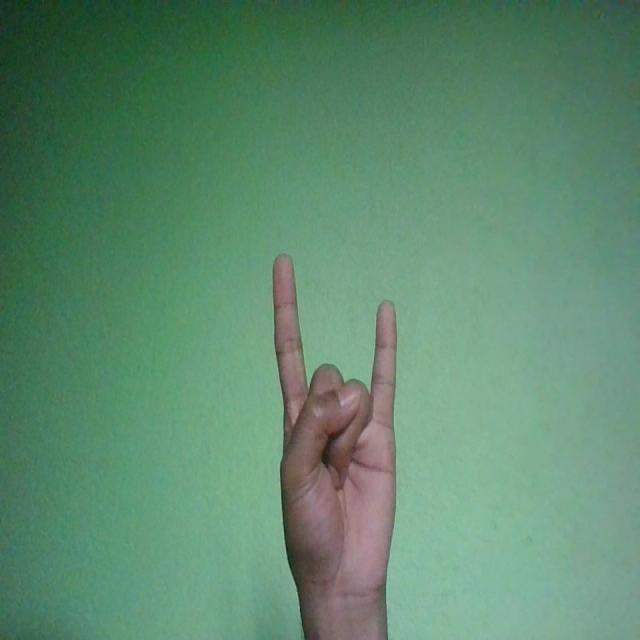open Plam: (272, 254, 398, 609)
